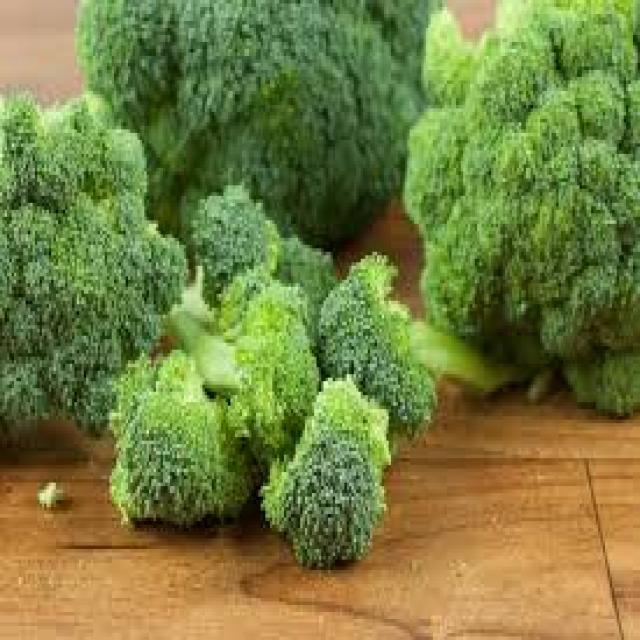food_waste: (0, 0, 638, 563)
